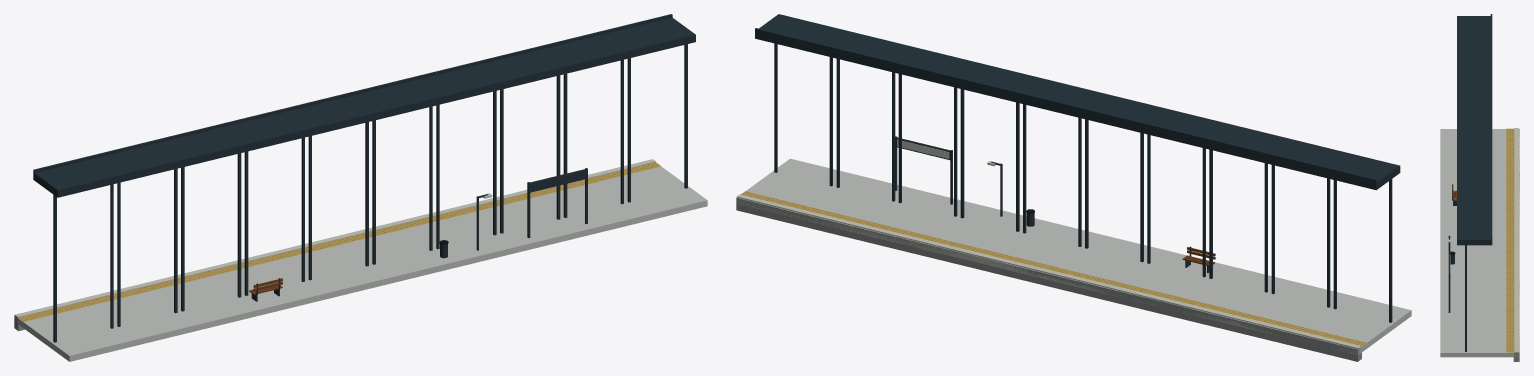
Rendered from platform-module-reflected.glb.
3 views of the same model, side by side, from view 1: azimuth 30°, elevation 25°; view 2: azimuth 150°, elevation 25°; view 3: azimuth 270°, elevation 25° (orthographic). The views are drawn at different scales.
Visible parts, largest first — view 1: REFLECTED_PLATFORM_1_MODULE_1_surface_VISUAL, REFLECTED_PLATFORM_1_MODULE_1_canopy_VISUAL, REFLECTED_PLATFORM_1_MODULE_1_canopy_VISUAL.002, REFLECTED_PLATFORM_1_MODULE_1_canopy_VISUAL.003, REFLECTED_PLATFORM_1_MODULE_1_canopy_VISUAL.007, REFLECTED_PLATFORM_1_MODULE_1_canopy_VISUAL.008, REFLECTED_PLATFORM_1_MODULE_1_canopy_VISUAL.006, REFLECTED_PLATFORM_1_MODULE_1_canopy_VISUAL.001, REFLECTED_PLATFORM_1_MODULE_1_canopy_VISUAL.005, REFLECTED_PLATFORM_1_MODULE_1_canopy_VISUAL.009, REFLECTED_PLATFORM_1_MODULE_1_canopy_VISUAL.004, REFLECTED_PLATFORM_1_MODULE_1_gantry_VISUAL; view 2: REFLECTED_PLATFORM_1_MODULE_1_surface_VISUAL, REFLECTED_PLATFORM_1_MODULE_1_canopy_VISUAL, REFLECTED_PLATFORM_1_MODULE_1_canopy_VISUAL.006, REFLECTED_PLATFORM_1_MODULE_1_canopy_VISUAL.008, REFLECTED_PLATFORM_1_MODULE_1_canopy_VISUAL.004, REFLECTED_PLATFORM_1_MODULE_1_canopy_VISUAL.001, REFLECTED_PLATFORM_1_MODULE_1_canopy_VISUAL.005, REFLECTED_PLATFORM_1_MODULE_1_canopy_VISUAL.007, REFLECTED_PLATFORM_1_MODULE_1_canopy_VISUAL.002, REFLECTED_PLATFORM_1_MODULE_1_canopy_VISUAL.009, REFLECTED_PLATFORM_1_MODULE_1_canopy_VISUAL.003, REFLECTED_PLATFORM_1_MODULE_1_edge_VISUAL (+10 smaller); view 3: REFLECTED_PLATFORM_1_MODULE_1_surface_VISUAL, REFLECTED_PLATFORM_1_MODULE_1_canopy_VISUAL.009, REFLECTED_PLATFORM_1_MODULE_1_canopy_VISUAL.002, REFLECTED_PLATFORM_1_MODULE_1_canopy_VISUAL.001, REFLECTED_PLATFORM_1_MODULE_1_canopy_VISUAL.003, REFLECTED_PLATFORM_1_MODULE_1_canopy_VISUAL.006, REFLECTED_PLATFORM_1_MODULE_1_canopy_VISUAL.008, REFLECTED_PLATFORM_1_MODULE_1_canopy_VISUAL, REFLECTED_PLATFORM_1_MODULE_1_canopy_VISUAL.005, REFLECTED_PLATFORM_1_MODULE_1_canopy_VISUAL.004, REFLECTED_PLATFORM_1_MODULE_1_canopy_VISUAL.007, REFLECTED_PLATFORM_1_MODULE_1_tactile_VISUAL.004 (+21 smaller).
Boxes of the visible parts, left/top/right/bottom form: REFLECTED_PLATFORM_1_MODULE_1_surface_VISUAL: left=14, top=166, right=707, bottom=361; REFLECTED_PLATFORM_1_MODULE_1_canopy_VISUAL: left=33, top=154, right=121, bottom=342; REFLECTED_PLATFORM_1_MODULE_1_canopy_VISUAL.002: left=161, top=123, right=249, bottom=311; REFLECTED_PLATFORM_1_MODULE_1_canopy_VISUAL.003: left=225, top=107, right=312, bottom=295; REFLECTED_PLATFORM_1_MODULE_1_canopy_VISUAL.007: left=480, top=45, right=568, bottom=233; REFLECTED_PLATFORM_1_MODULE_1_canopy_VISUAL.008: left=544, top=29, right=631, bottom=217; REFLECTED_PLATFORM_1_MODULE_1_canopy_VISUAL.006: left=416, top=61, right=504, bottom=249; REFLECTED_PLATFORM_1_MODULE_1_canopy_VISUAL.001: left=97, top=138, right=185, bottom=326; REFLECTED_PLATFORM_1_MODULE_1_canopy_VISUAL.005: left=353, top=76, right=440, bottom=264; REFLECTED_PLATFORM_1_MODULE_1_canopy_VISUAL.009: left=608, top=14, right=695, bottom=202; REFLECTED_PLATFORM_1_MODULE_1_canopy_VISUAL.004: left=289, top=92, right=376, bottom=280; REFLECTED_PLATFORM_1_MODULE_1_gantry_VISUAL: left=527, top=168, right=587, bottom=238; REFLECTED_PLATFORM_1_MODULE_1_surface_VISUAL: left=736, top=158, right=1411, bottom=355; REFLECTED_PLATFORM_1_MODULE_1_canopy_VISUAL: left=1314, top=150, right=1400, bottom=322; REFLECTED_PLATFORM_1_MODULE_1_canopy_VISUAL.006: left=941, top=59, right=1026, bottom=231; REFLECTED_PLATFORM_1_MODULE_1_canopy_VISUAL.008: left=817, top=29, right=902, bottom=201; REFLECTED_PLATFORM_1_MODULE_1_canopy_VISUAL.004: left=1065, top=90, right=1150, bottom=262; REFLECTED_PLATFORM_1_MODULE_1_canopy_VISUAL.001: left=1252, top=135, right=1337, bottom=307; REFLECTED_PLATFORM_1_MODULE_1_canopy_VISUAL.005: left=1003, top=74, right=1088, bottom=246; REFLECTED_PLATFORM_1_MODULE_1_canopy_VISUAL.007: left=879, top=44, right=964, bottom=216; REFLECTED_PLATFORM_1_MODULE_1_canopy_VISUAL.002: left=1190, top=120, right=1275, bottom=292; REFLECTED_PLATFORM_1_MODULE_1_canopy_VISUAL.009: left=755, top=14, right=840, bottom=186; REFLECTED_PLATFORM_1_MODULE_1_canopy_VISUAL.003: left=1128, top=105, right=1213, bottom=277; REFLECTED_PLATFORM_1_MODULE_1_edge_VISUAL: left=1295, top=334, right=1361, bottom=361; REFLECTED_PLATFORM_1_MODULE_1_surface_VISUAL: left=1440, top=129, right=1519, bottom=357; REFLECTED_PLATFORM_1_MODULE_1_canopy_VISUAL.009: left=1457, top=215, right=1492, bottom=351; REFLECTED_PLATFORM_1_MODULE_1_canopy_VISUAL.002: left=1457, top=58, right=1492, bottom=83; REFLECTED_PLATFORM_1_MODULE_1_canopy_VISUAL.001: left=1457, top=36, right=1492, bottom=60; REFLECTED_PLATFORM_1_MODULE_1_canopy_VISUAL.003: left=1457, top=81, right=1492, bottom=105; REFLECTED_PLATFORM_1_MODULE_1_canopy_VISUAL.006: left=1457, top=148, right=1492, bottom=172; REFLECTED_PLATFORM_1_MODULE_1_canopy_VISUAL.008: left=1457, top=193, right=1492, bottom=217; REFLECTED_PLATFORM_1_MODULE_1_canopy_VISUAL: left=1457, top=14, right=1492, bottom=38; REFLECTED_PLATFORM_1_MODULE_1_canopy_VISUAL.005: left=1457, top=126, right=1492, bottom=150; REFLECTED_PLATFORM_1_MODULE_1_canopy_VISUAL.004: left=1457, top=103, right=1492, bottom=127; REFLECTED_PLATFORM_1_MODULE_1_canopy_VISUAL.007: left=1457, top=170, right=1492, bottom=194; REFLECTED_PLATFORM_1_MODULE_1_tactile_VISUAL.004: left=1506, top=218, right=1514, bottom=240.
Size of what is drawn, in the model's own units: 143 by 36.91 by 21.43.
8 materials, 7 textured.
